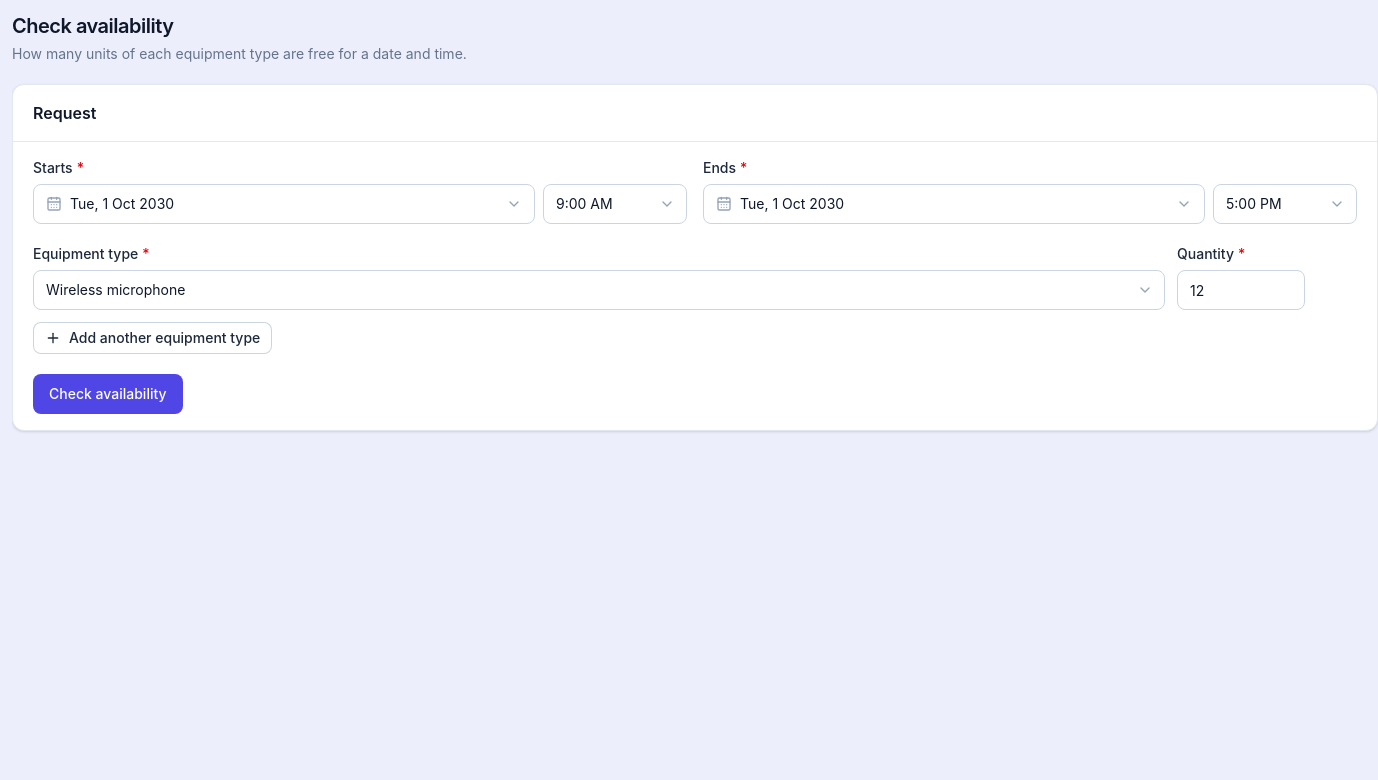
US-29 AC-1, AC-2, AC-4, AC-5: several types for one date and time › checks each type for the same window and shows each one’s free count and shortfall
Click the button "Add another equipment type": [153, 338] box [33,322,272,354]
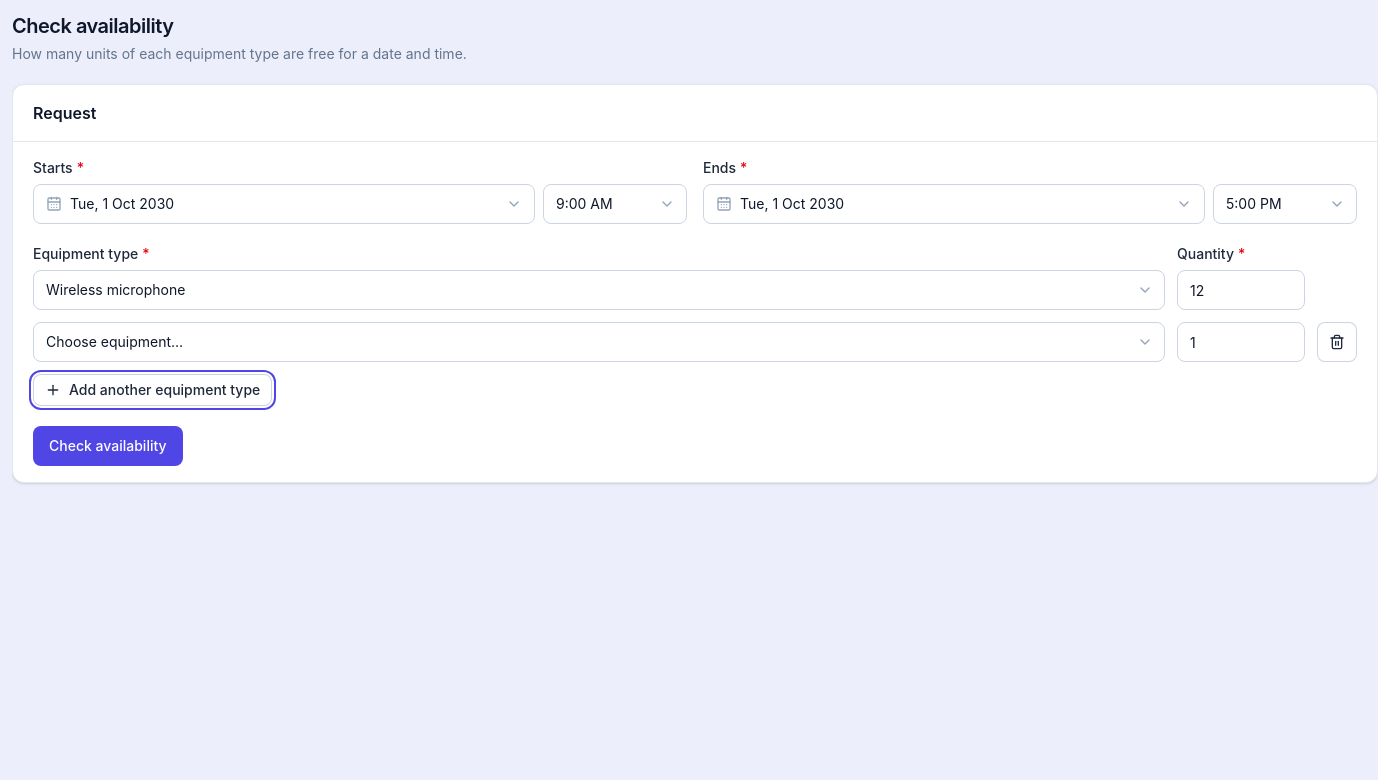
Select "Portable PA system" in the dropdown named "Equipment type 2": [599, 342] box [33,322,1165,362]
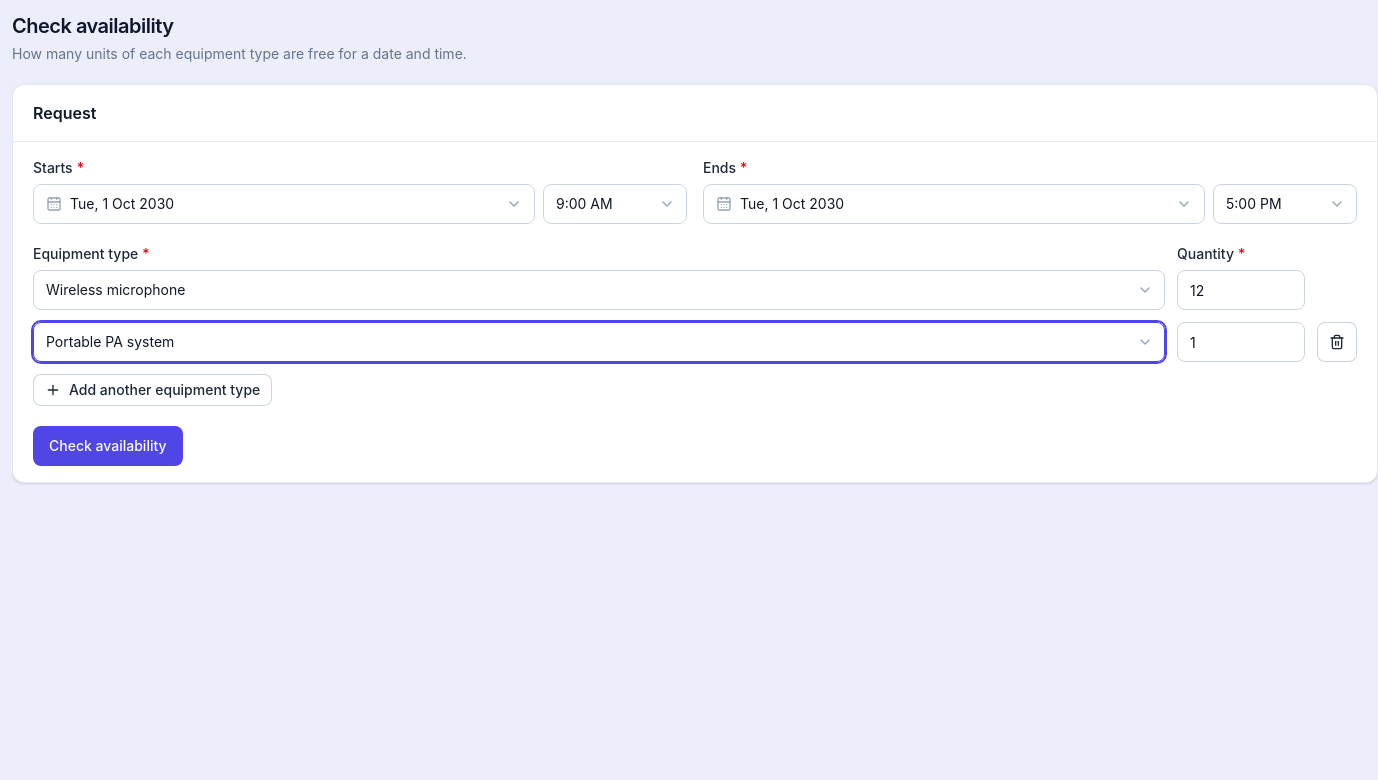
Replace the text in the number field named "Quantity for equipment type 2" with "4": [1241, 342] box [1177,322,1305,362]
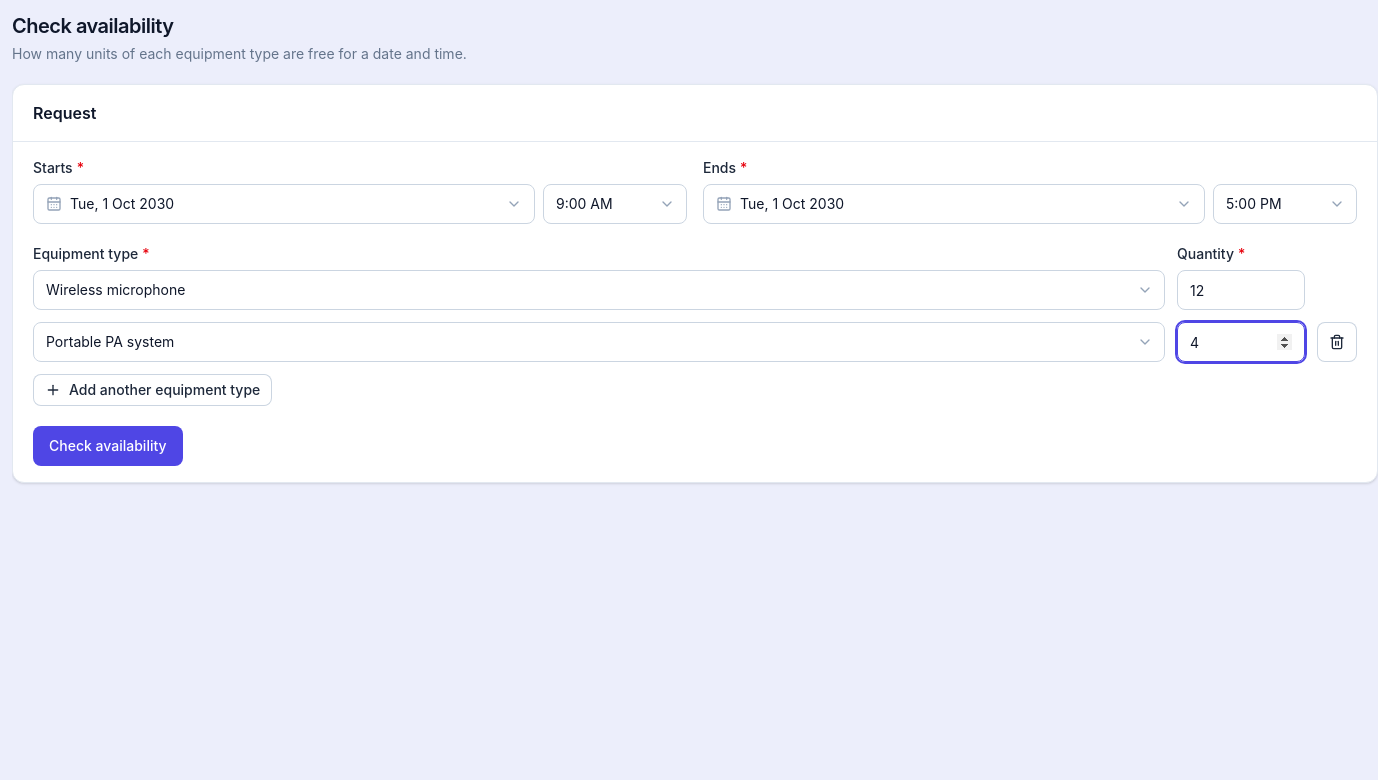
Click the button "Check availability": [108, 446] box [33,426,182,466]
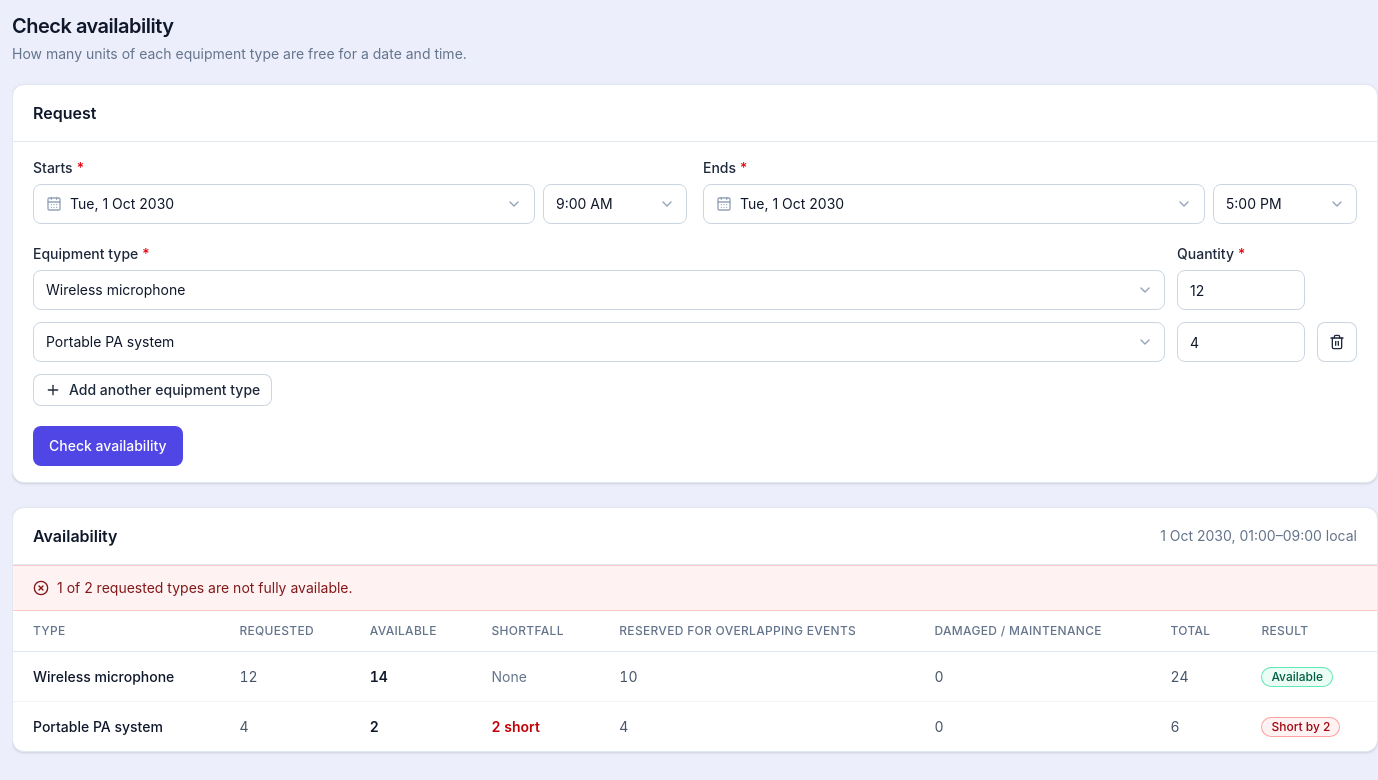
Result: the text "1 of 2 requested types are not fully available." is shown at [13,565,1377,611]
